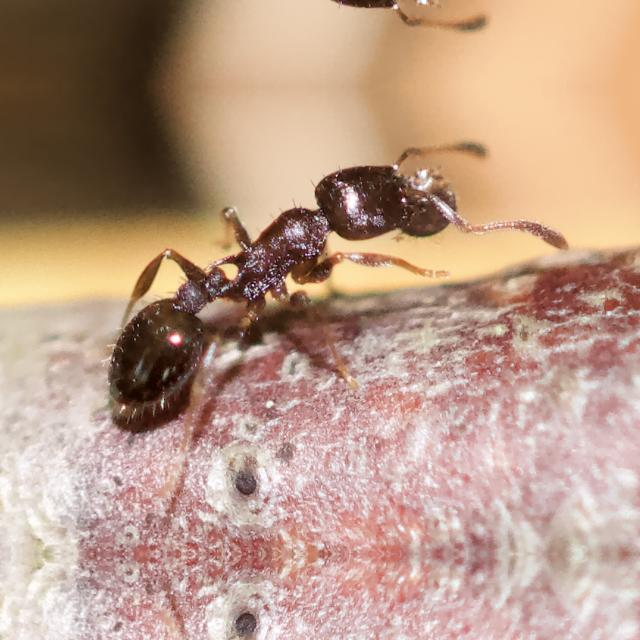Temnothorax: (56, 114, 508, 434)
